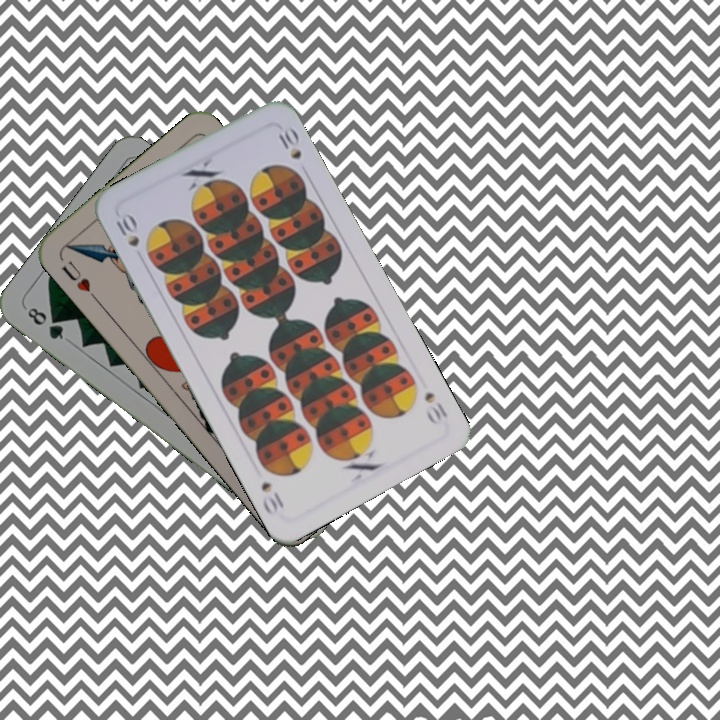G8: (23, 303, 67, 343)
HU: (57, 256, 100, 303)
S10: (110, 208, 142, 250), (420, 387, 451, 427)
